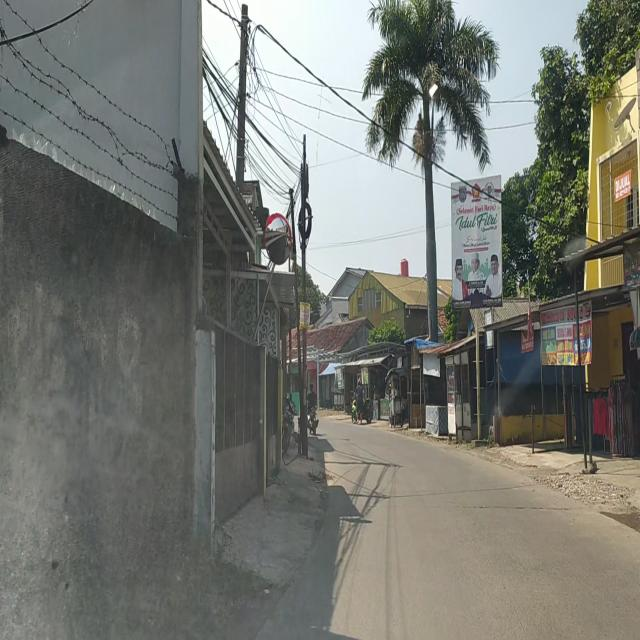Sewer Cover: (460, 502, 572, 513)
